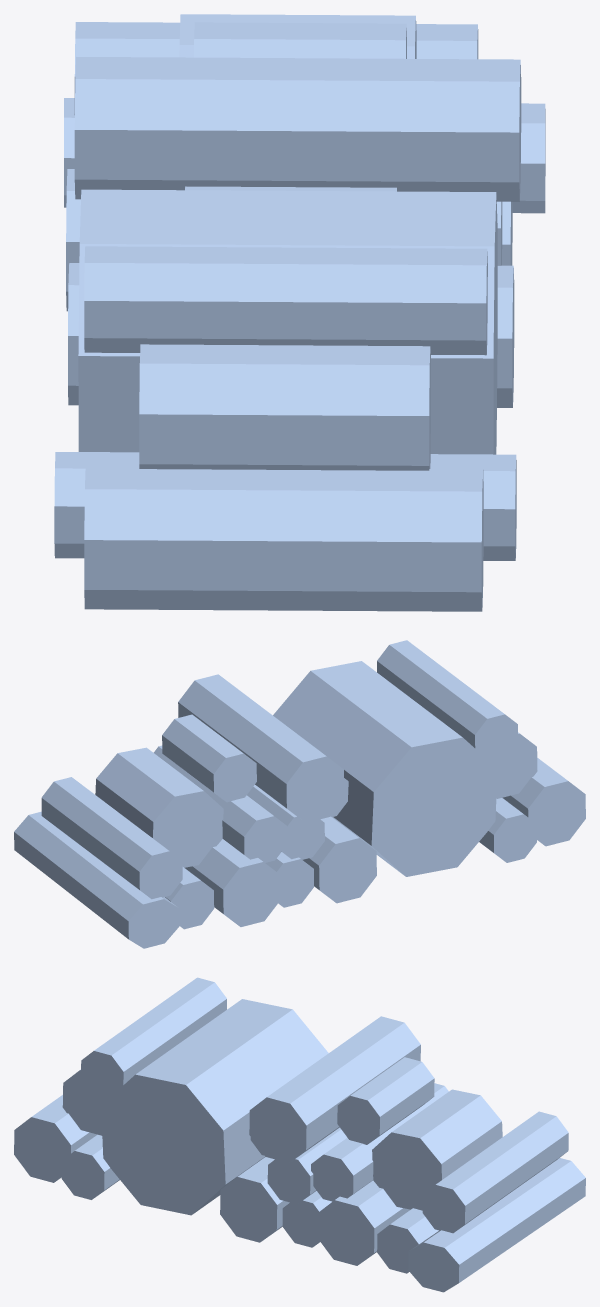
Rendered from Asset_BlockSnow_Logs_02.fbx.
3 views of the same model, one above another, from view 1: azimuth 30°, elevation 25°; view 2: azimuth 150°, elevation 25°; view 3: azimuth 270°, elevation 25° (orthographic). The views are drawn at different scales.
Visible parts, largest first — view 1: pCylinder12, pCylinder3, pCylinder5, pCylinder2, pCylinder4, pCylinder1, pCylinder17, pCylinder16, pCylinder6, pCylinder14, pCylinder15, pCylinder9 (+1 smaller); view 2: pCylinder2, pCylinder12, pCylinder15, pCylinder14, pCylinder16, pCylinder5, pCylinder17, pCylinder9, pCylinder6, pCylinder3, pCylinder11, pCylinder1 (+4 smaller); view 3: pCylinder2, pCylinder12, pCylinder14, pCylinder15, pCylinder16, pCylinder5, pCylinder17, pCylinder9, pCylinder3, pCylinder6, pCylinder11, pCylinder10 (+4 smaller).
Part boxes in pixels (box(x1,y1,x2,y2)): pCylinder12: box(74, 57, 521, 201); pCylinder3: box(84, 467, 483, 611); pCylinder5: box(84, 246, 487, 355); pCylinder2: box(78, 189, 497, 454); pCylinder4: box(139, 344, 430, 470); pCylinder1: box(54, 452, 516, 560); pCylinder17: box(194, 22, 406, 58); pCylinder16: box(74, 22, 478, 114); pCylinder6: box(68, 263, 514, 407); pCylinder14: box(64, 98, 545, 213); pCylinder15: box(179, 14, 416, 58); pCylinder9: box(66, 169, 512, 311); pCylinder2: box(273, 661, 497, 876); pCylinder12: box(178, 674, 344, 821); pCylinder15: box(95, 747, 223, 867); pCylinder14: box(14, 811, 179, 948); pCylinder16: box(41, 777, 182, 899); pCylinder5: box(377, 640, 518, 762); pCylinder17: box(162, 714, 256, 802); pCylinder9: box(185, 839, 280, 926); pCylinder6: box(303, 816, 376, 903); pCylinder3: box(502, 758, 585, 846); pCylinder11: box(153, 745, 287, 862); pCylinder1: box(479, 798, 536, 862); pCylinder2: box(101, 999, 328, 1215); pCylinder12: box(249, 1016, 420, 1162); pCylinder14: box(408, 1158, 585, 1292); pCylinder15: box(372, 1089, 502, 1210); pCylinder16: box(422, 1111, 568, 1233); pCylinder5: box(81, 977, 226, 1099); pCylinder17: box(337, 1057, 434, 1144); pCylinder9: box(317, 1180, 410, 1265); pCylinder3: box(14, 1095, 97, 1182); pCylinder6: box(220, 1157, 289, 1242); pCylinder11: box(311, 1083, 448, 1201); pCylinder10: box(267, 1127, 347, 1204).
Size of the model in its own units: 75.99 by 26.79 by 93.39.
